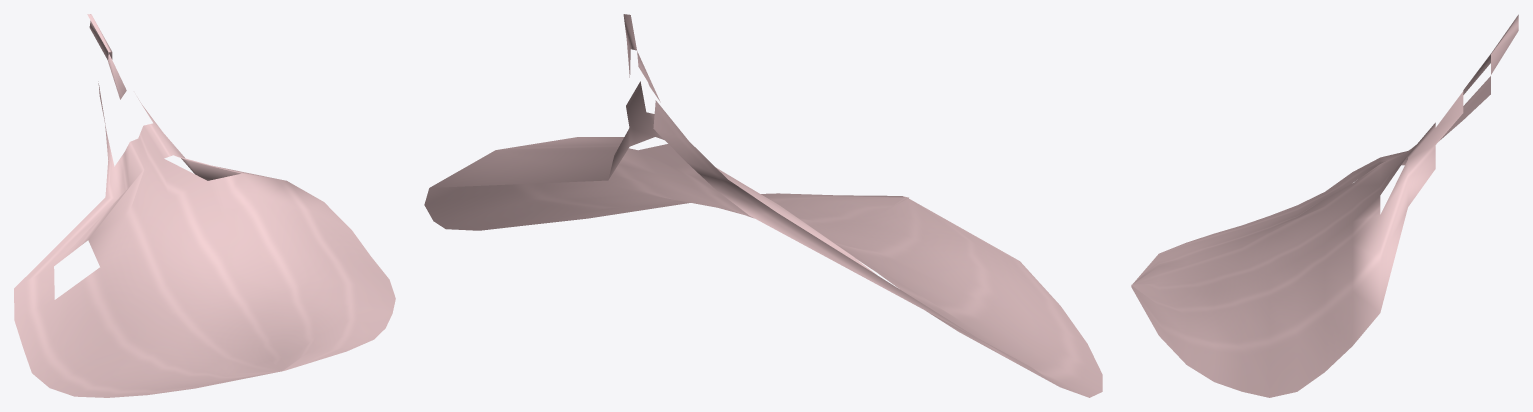
File: petal_21_broken.glb
3 renders of one model, left to right at view 1: azimuth 30°, elevation 25°; view 2: azimuth 150°, elevation 25°; view 3: azimuth 270°, elevation 25°, orthographic. The views are drawn at different scales.
Visible parts, largest first — view 1: petal_21_broken; view 2: petal_21_broken; view 3: petal_21_broken.
Boxes of the visible parts, bbox=[...] form: petal_21_broken: bbox=[14, 14, 395, 397]; petal_21_broken: bbox=[424, 14, 1102, 397]; petal_21_broken: bbox=[1131, 14, 1518, 397].
Size of the model in its own units: 0.0831 by 0.0572 by 0.0703.
Materials: 1 (1 with a texture image).
